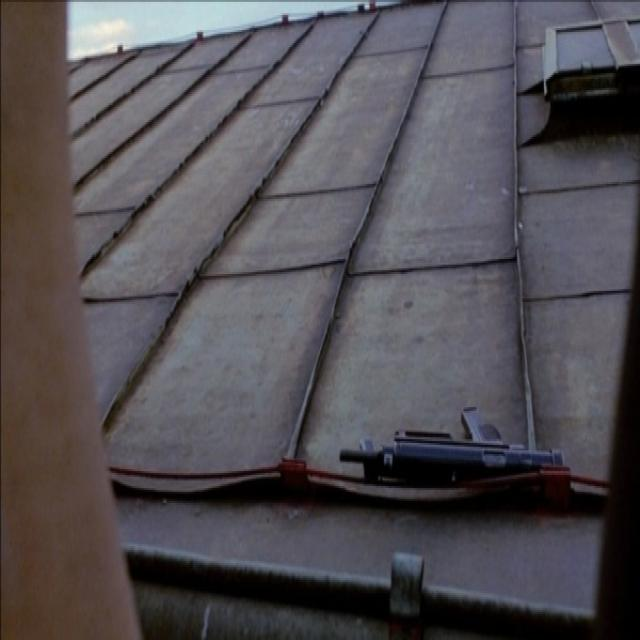rifle: (335, 395, 578, 493)
